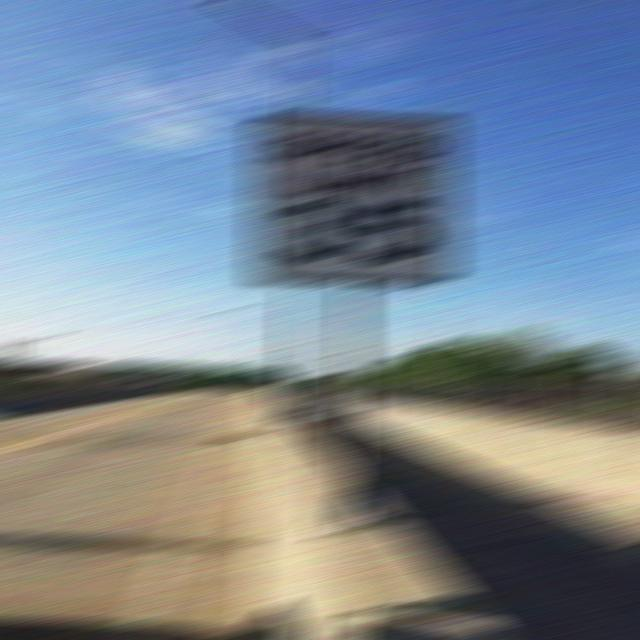speedLimit35: (244, 101, 458, 284)
